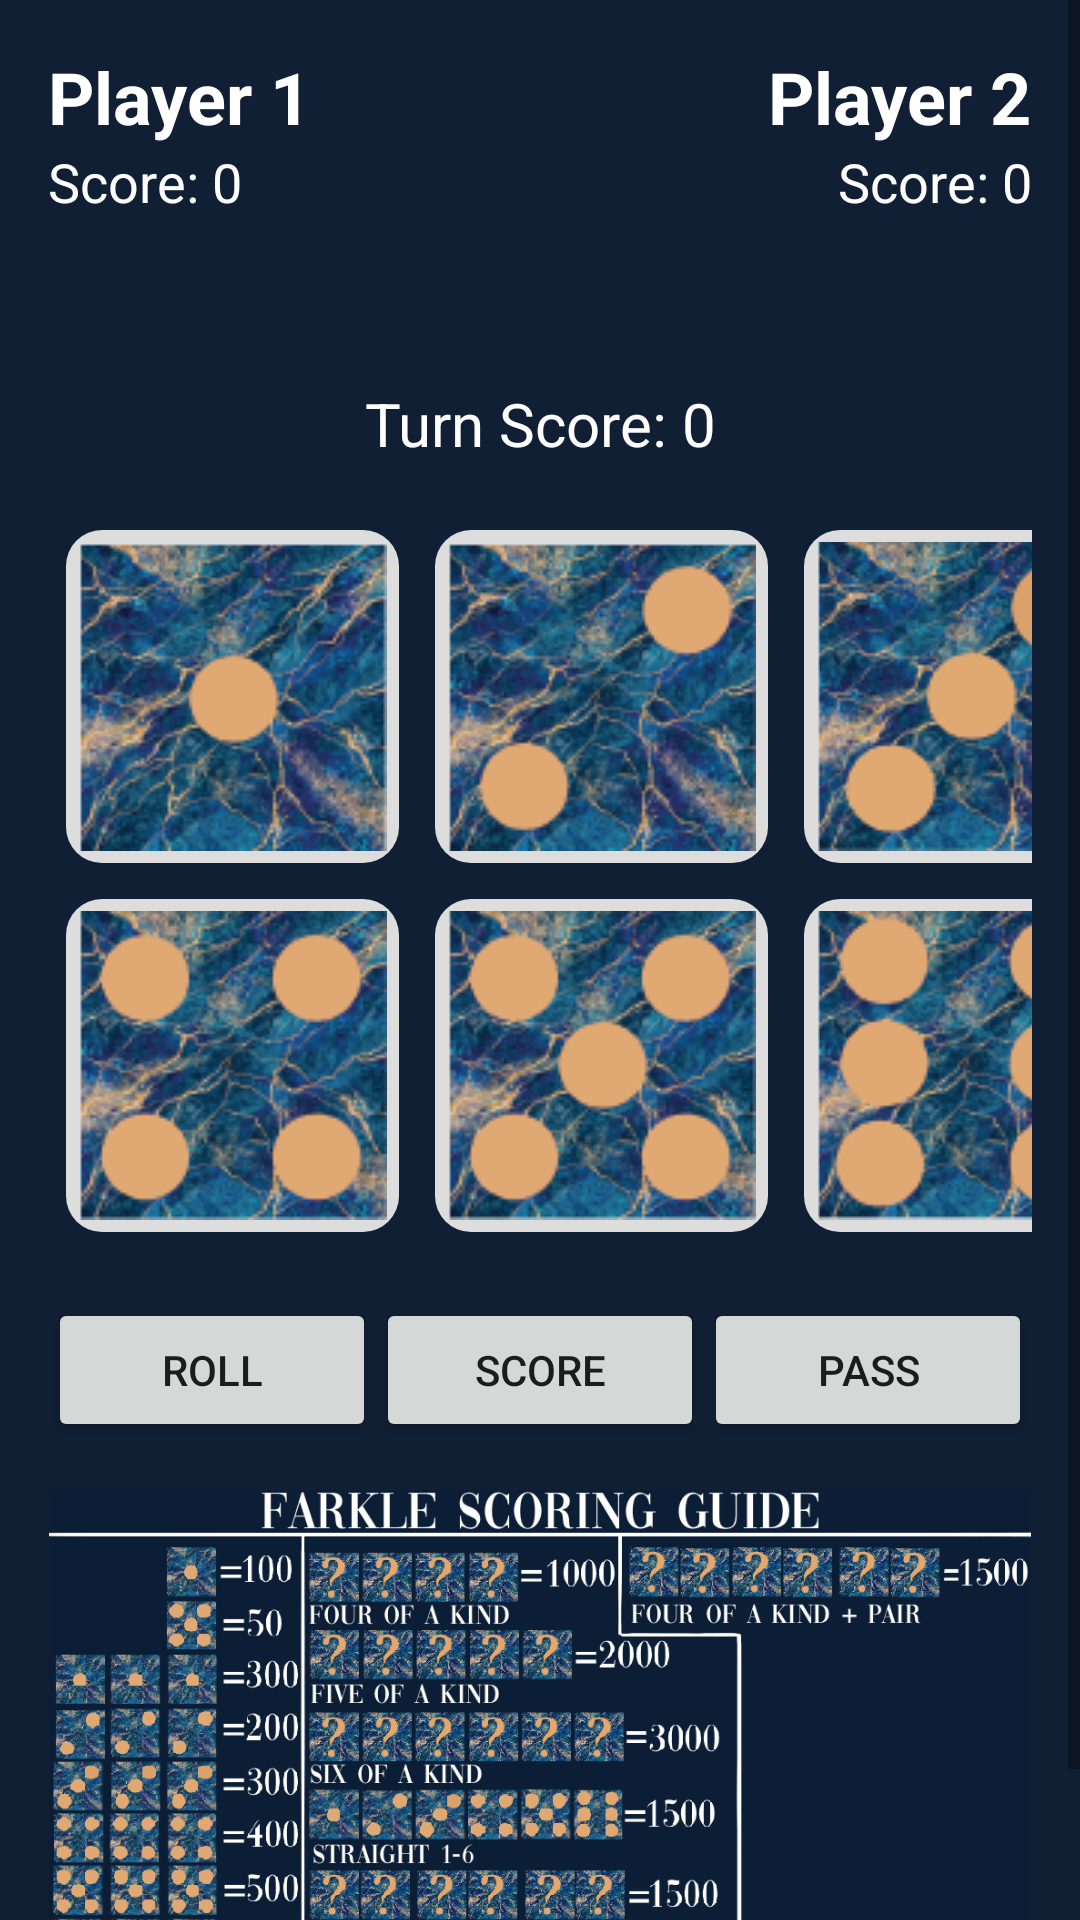

Where to tap for icons on this 1080*1920 app screen, as (x=x, y=y):
Die 1: (x=232, y=696)
Die 2: (x=601, y=696)
Die 4: (x=232, y=1065)
Die 5: (x=601, y=1065)
